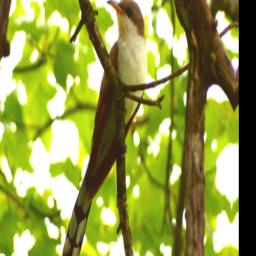Cuckoo: (61, 0, 150, 256)
